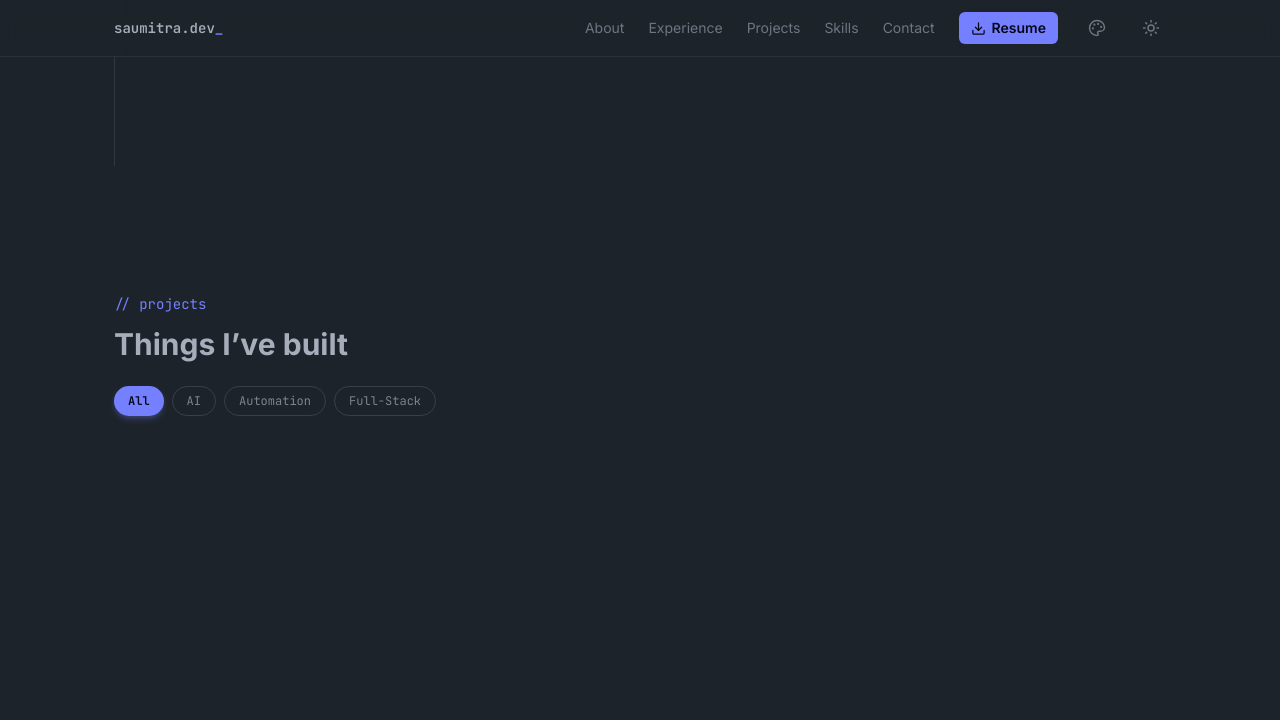
Scenario: project filters › filters projects by tag and restores with All
This screenshot has width=1280, height=720.
(page scrolled)
Click the button "AI" at x=194, y=400, box x1=172 y1=386 x2=216 y2=416
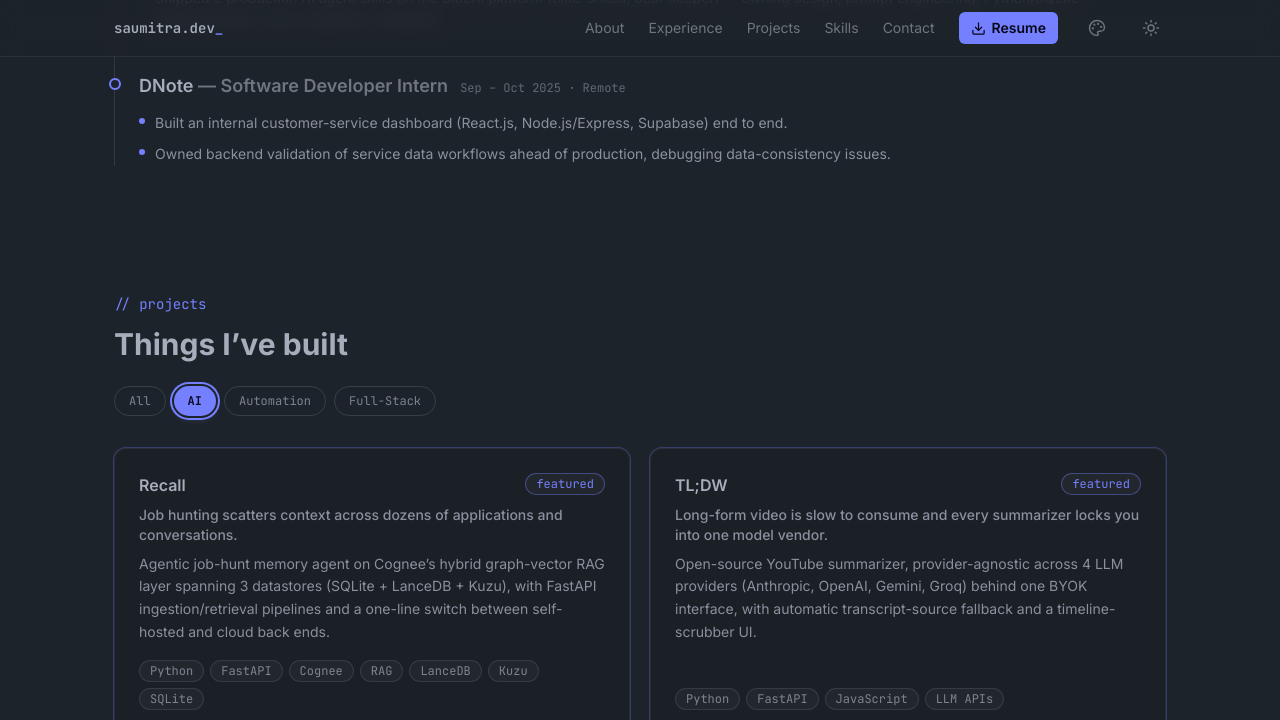
Check: the text "SpeakEasy" is not shown
Check: the heading "Recall" is shown, box x1=139 y1=472 x2=186 y2=496
Click the button "Full-Stack" at x=385, y=400, box x1=334 y1=386 x2=436 y2=416
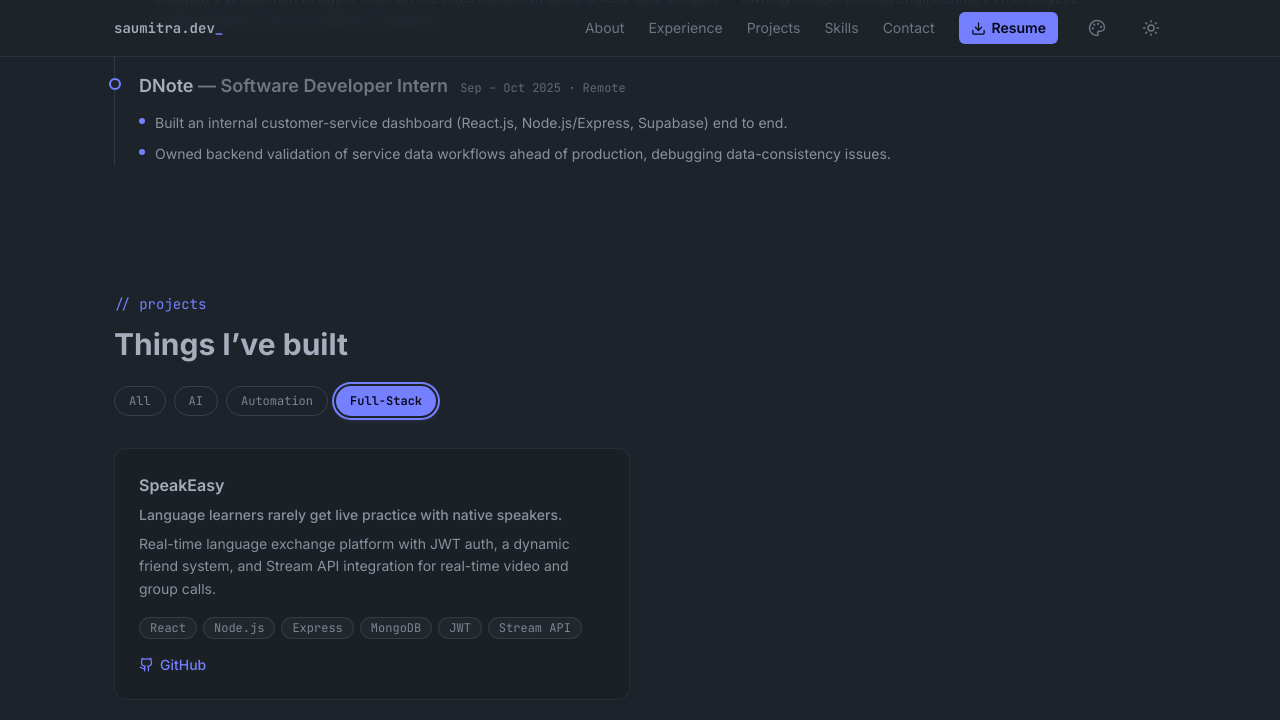
Check: the heading "SpeakEasy" is shown, box x1=139 y1=472 x2=224 y2=496
Check: the heading "Recall" is gone
Click the button "All" at x=140, y=400, box x1=114 y1=386 x2=166 y2=416
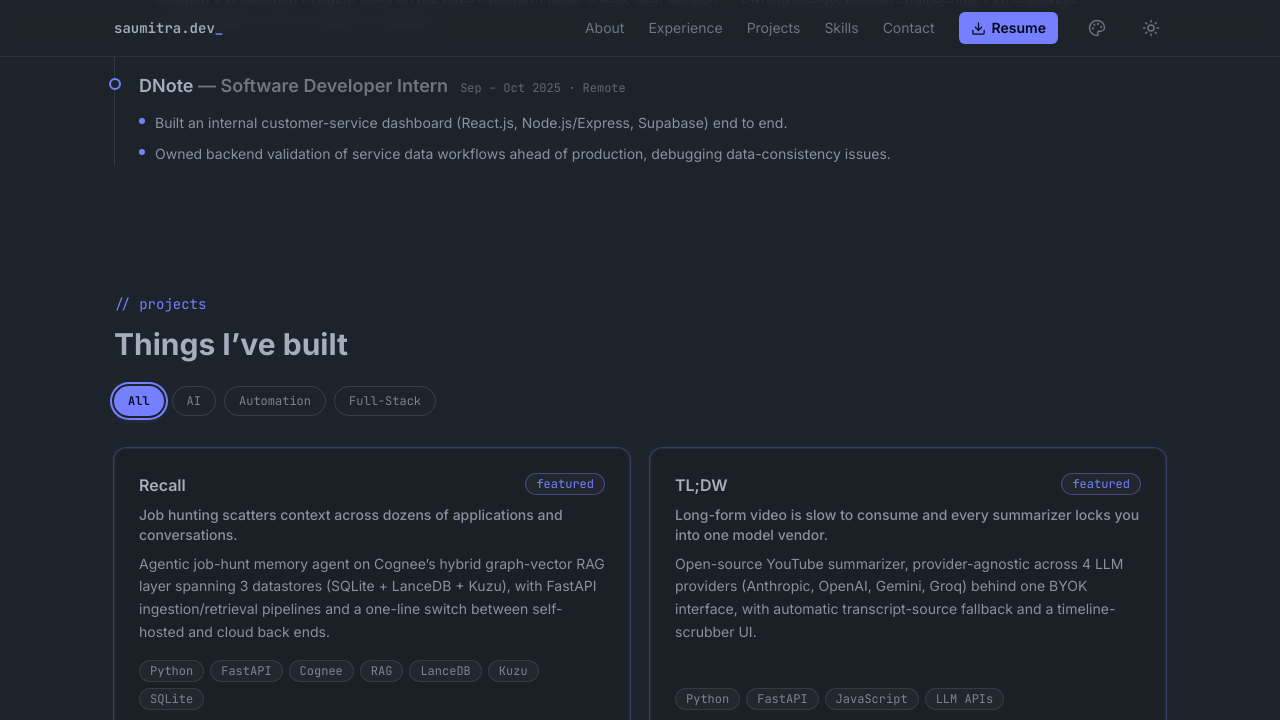
Check: the heading "Recall" is shown, box x1=139 y1=472 x2=186 y2=496
Check: the heading "TL;DW" is shown, box x1=675 y1=472 x2=728 y2=496
